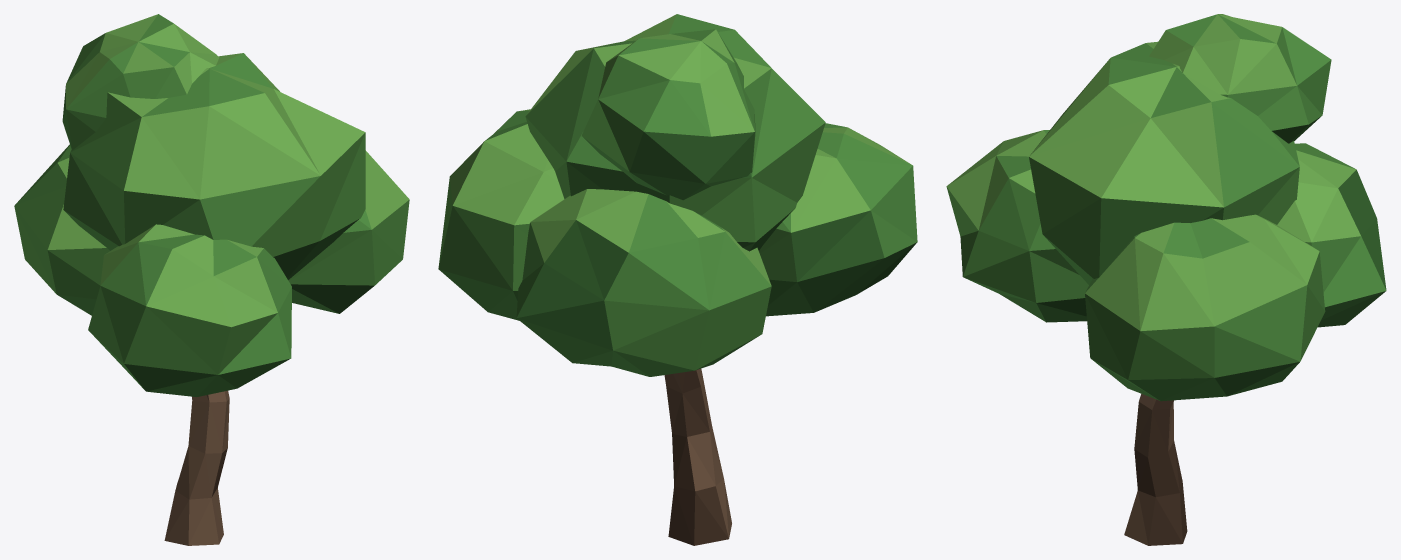
File: tree_round_b.fbx
3 renders of one model, left to right at view 1: azimuth 30°, elevation 25°; view 2: azimuth 150°, elevation 25°; view 3: azimuth 270°, elevation 25°, orthographic. The views are drawn at different scales.
Parts seen in each view (by area): view 1: tree_round_b; view 2: tree_round_b; view 3: tree_round_b.
Boxes of the visible parts, x1,y1,x2,y2 form: tree_round_b: (14, 14, 409, 545); tree_round_b: (438, 14, 917, 545); tree_round_b: (946, 14, 1386, 545).
Bounding box in the file's own units: 5.27 × 7.06 × 5.56.
